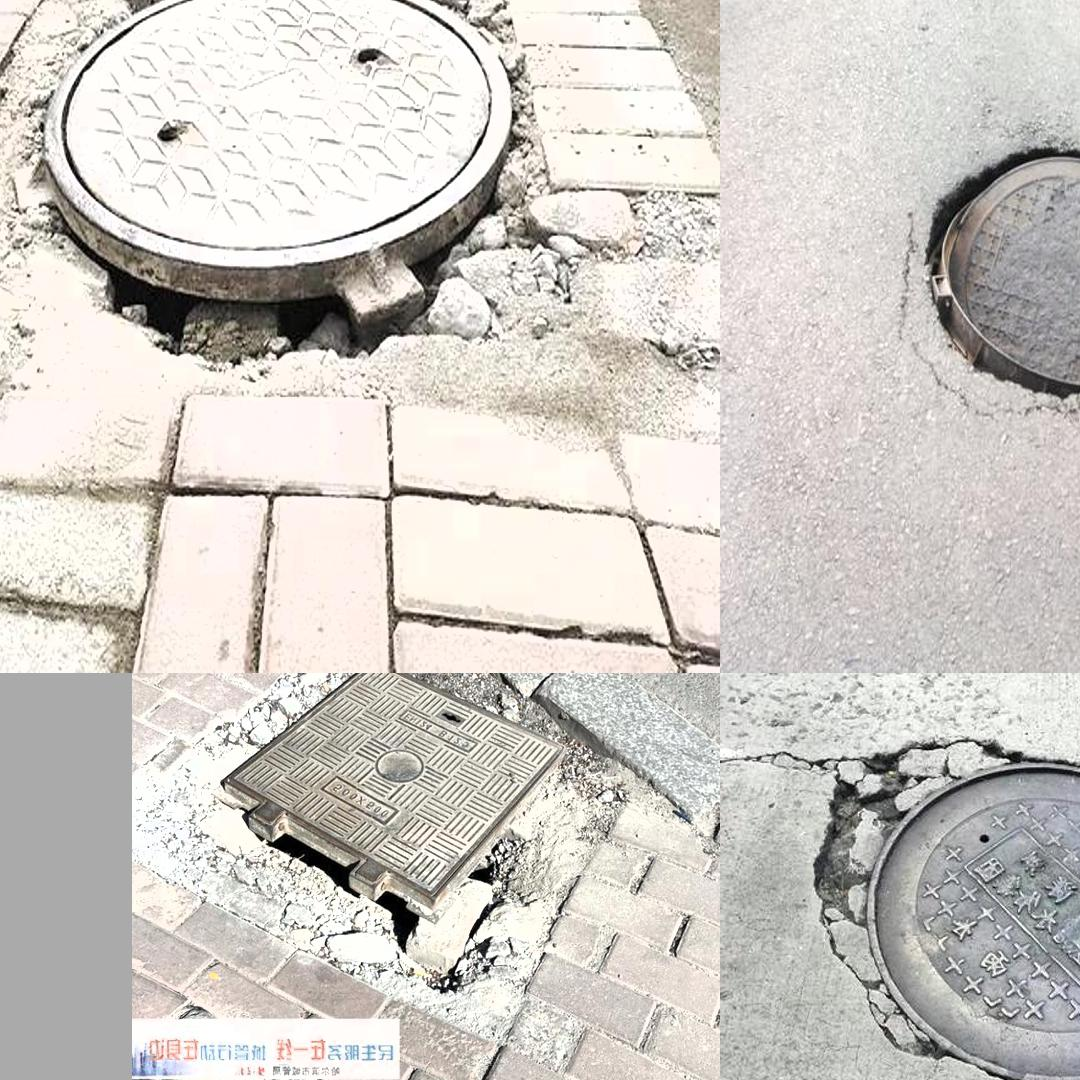circle: (0, 0, 633, 395), (136, 679, 624, 1001), (804, 723, 1080, 1080), (880, 124, 1080, 421)
